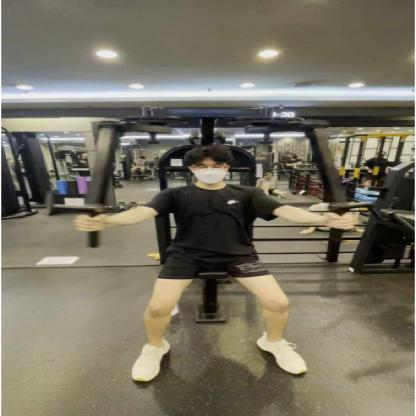chest fly machine: (46, 85, 416, 399)
